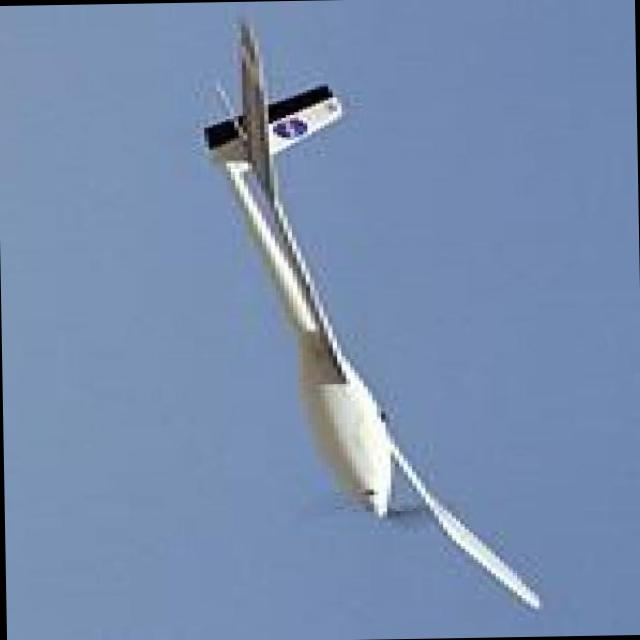UAV: (220, 86, 412, 628)
